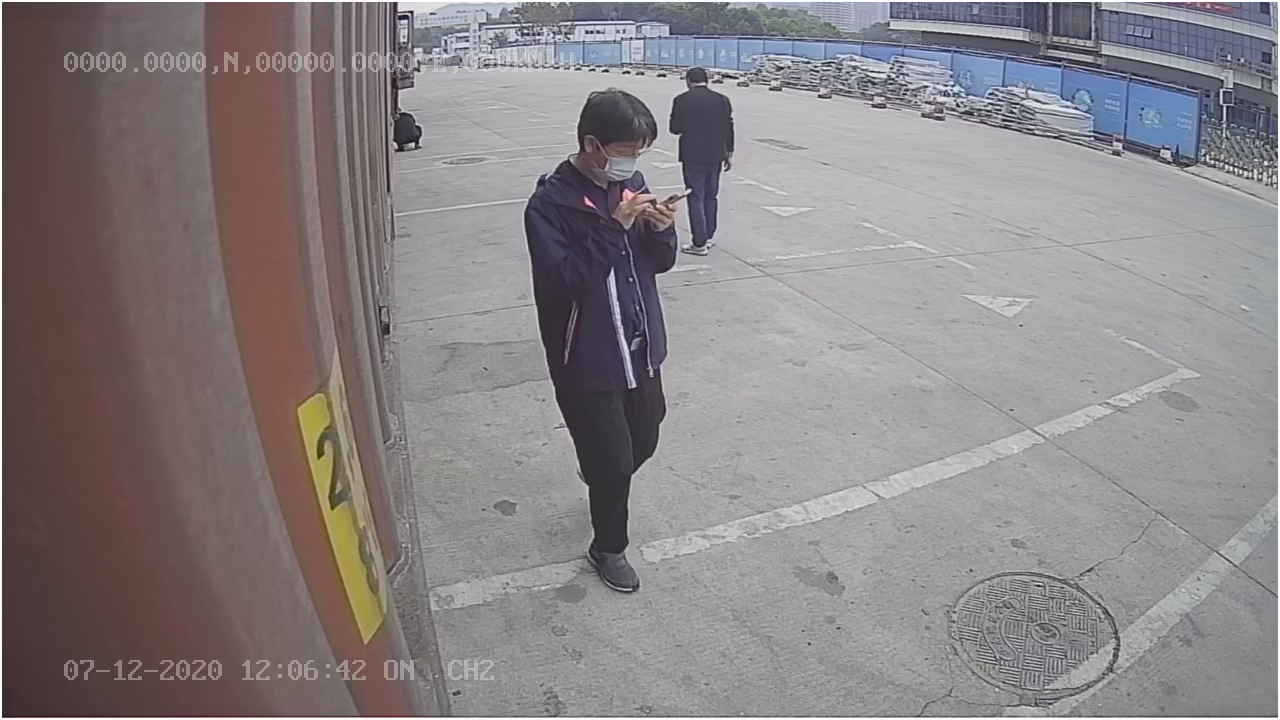person: (523, 83, 679, 590)
